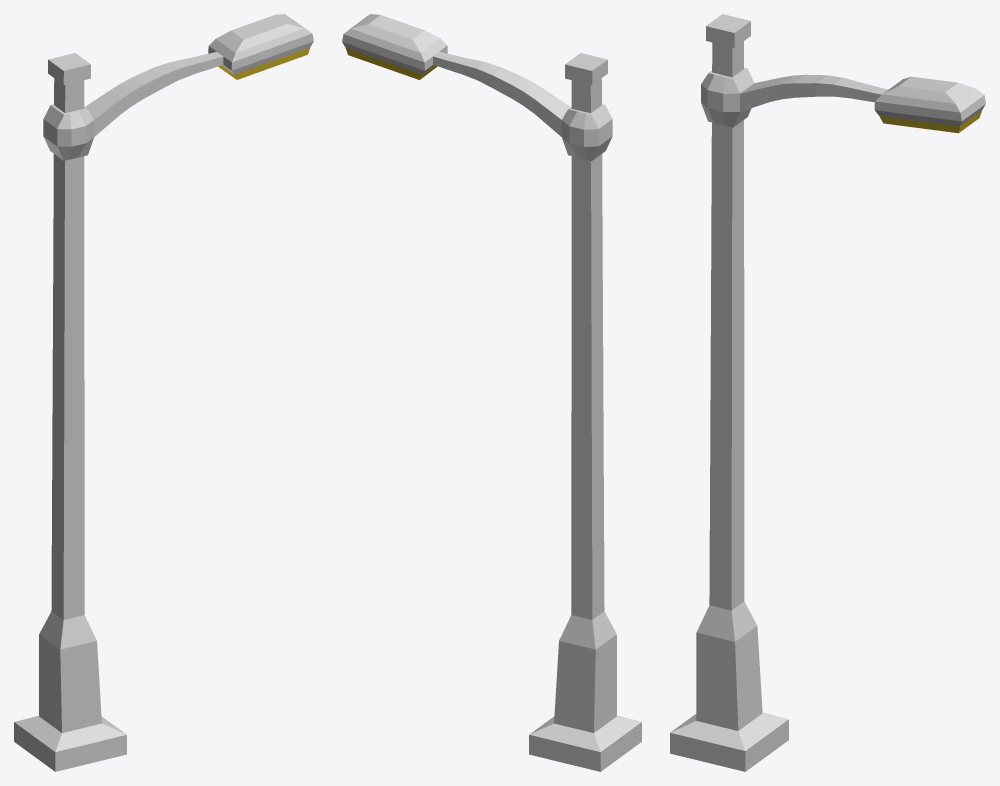
File: Poste.fbx
3 renders of one model, left to right at view 1: azimuth 30°, elevation 25°; view 2: azimuth 150°, elevation 25°; view 3: azimuth 330°, elevation 25°, orthographic. The views are drawn at different scales.
Visible parts, largest first — view 1: Cube; view 2: Cube; view 3: Cube.
Boxes of the visible parts, x1,y1,x2,y2 form: Cube: (14, 14, 313, 771); Cube: (342, 14, 641, 771); Cube: (670, 14, 985, 771).
Bounding box in the file's own units: 298 × 731 × 79.74.
